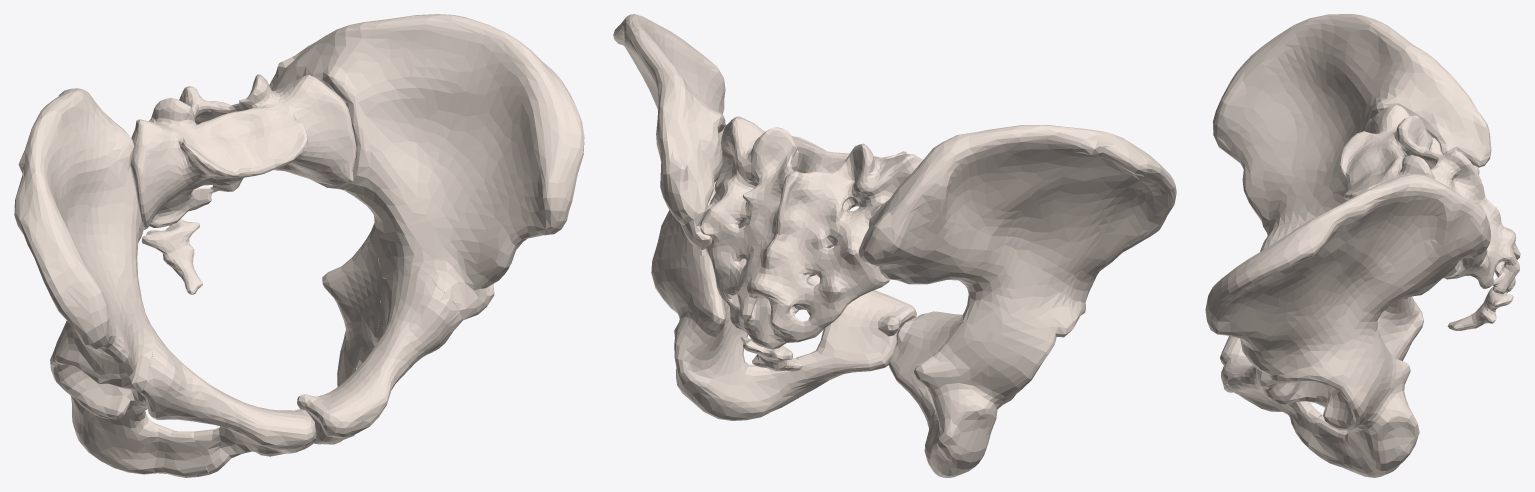
The model's file is VH_F_Pelvis_0.4.glb.
3 renders of one model, left to right at view 1: azimuth 30°, elevation 25°; view 2: azimuth 150°, elevation 25°; view 3: azimuth 270°, elevation 25°, orthographic. The views are drawn at different scales.
Parts seen in each view (by area): view 1: VH_F_ilium_compact_bone_L, VH_F_ilium_compact_bone_R, VH_F_sacrum, VH_F_pubis_compact_bone_L, VH_F_pubis_compact_bone_R, VH_F_ischium_compact_bone_R, VH_F_ischium_compact_bone_L, VH_F_coccyx; view 2: VH_F_ilium_compact_bone_R, VH_F_sacrum, VH_F_ilium_compact_bone_L, VH_F_ischium_compact_bone_L, VH_F_ischium_compact_bone_R, VH_F_pubis_compact_bone_L, VH_F_pubis_compact_bone_R, VH_F_coccyx; view 3: VH_F_ilium_compact_bone_L, VH_F_ilium_compact_bone_R, VH_F_sacrum, VH_F_ischium_compact_bone_L, VH_F_pubis_compact_bone_L, VH_F_ischium_compact_bone_R, VH_F_coccyx, VH_F_pubis_compact_bone_R.
Part boxes in pixels (box(x1,y1,x2,y2)): VH_F_ilium_compact_bone_L: box(269, 14, 584, 320); VH_F_ilium_compact_bone_R: box(14, 88, 153, 392); VH_F_sacrum: box(131, 74, 356, 229); VH_F_pubis_compact_bone_L: box(297, 263, 462, 444); VH_F_pubis_compact_bone_R: box(140, 325, 316, 474); VH_F_ischium_compact_bone_R: box(50, 364, 209, 477); VH_F_ischium_compact_bone_L: box(322, 239, 382, 436); VH_F_coccyx: box(142, 219, 202, 294); VH_F_ilium_compact_bone_R: box(858, 125, 1176, 354); VH_F_sacrum: box(700, 116, 922, 349); VH_F_ilium_compact_bone_L: box(613, 14, 745, 260); VH_F_ischium_compact_bone_L: box(651, 255, 806, 420); VH_F_ischium_compact_bone_R: box(914, 322, 1048, 477); VH_F_pubis_compact_bone_L: box(740, 258, 916, 393); VH_F_pubis_compact_bone_R: box(889, 311, 962, 420); VH_F_coccyx: box(740, 336, 802, 371); VH_F_ilium_compact_bone_L: box(1205, 173, 1491, 401); VH_F_ilium_compact_bone_R: box(1212, 14, 1491, 235); VH_F_sacrum: box(1339, 104, 1520, 294); VH_F_ischium_compact_bone_L: box(1308, 342, 1419, 477); VH_F_pubis_compact_bone_L: box(1221, 357, 1322, 447); VH_F_ischium_compact_bone_R: box(1377, 296, 1423, 360); VH_F_coccyx: box(1447, 287, 1513, 330); VH_F_pubis_compact_bone_R: box(1220, 222, 1306, 365).
Bounding box in the file's own units: 0.3168 × 0.2115 × 0.1828.
